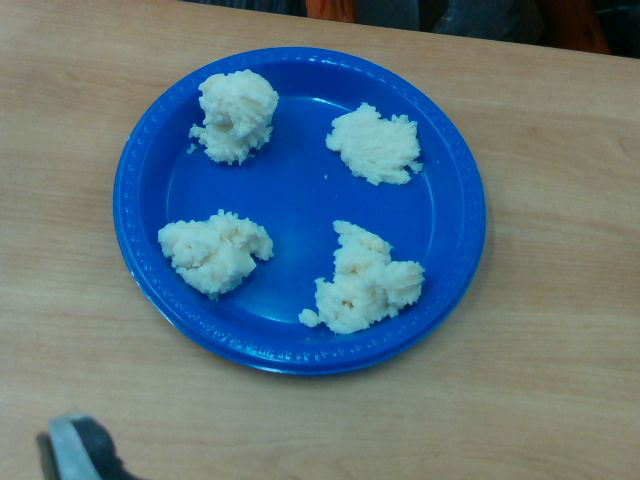mashed_potato: (298, 220, 425, 334), (157, 209, 275, 300), (189, 69, 279, 165), (325, 102, 424, 185)
